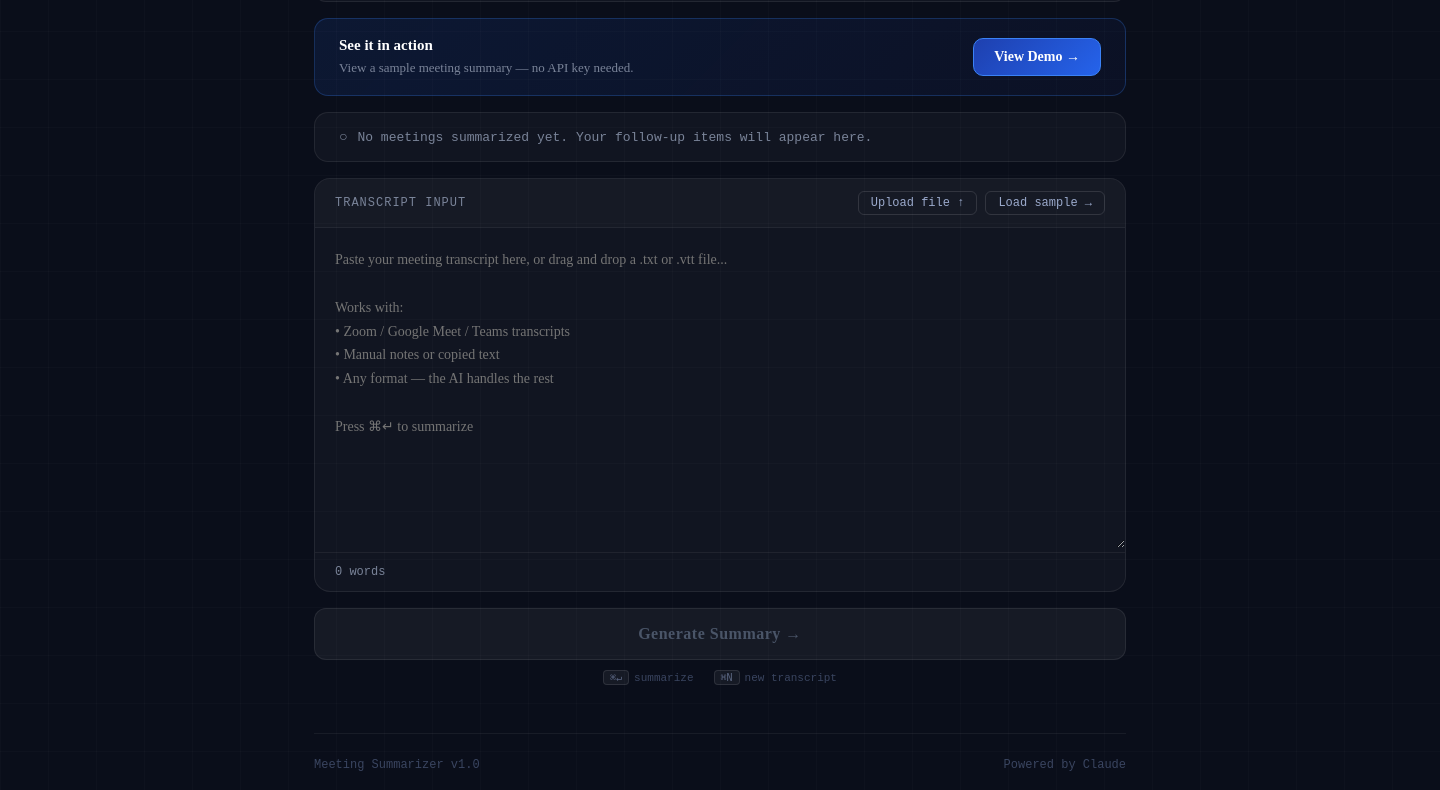
it: summarize: API error handling › shows "temporarily overloaded" error on 529
This screenshot has width=1440, height=790.
(page scrolled)
Replace the text in the text box with placeholder "Paste your meeting transcript" with "Some transcript content" at (720, 388), box [315, 228, 1125, 548]
(page scrolled)
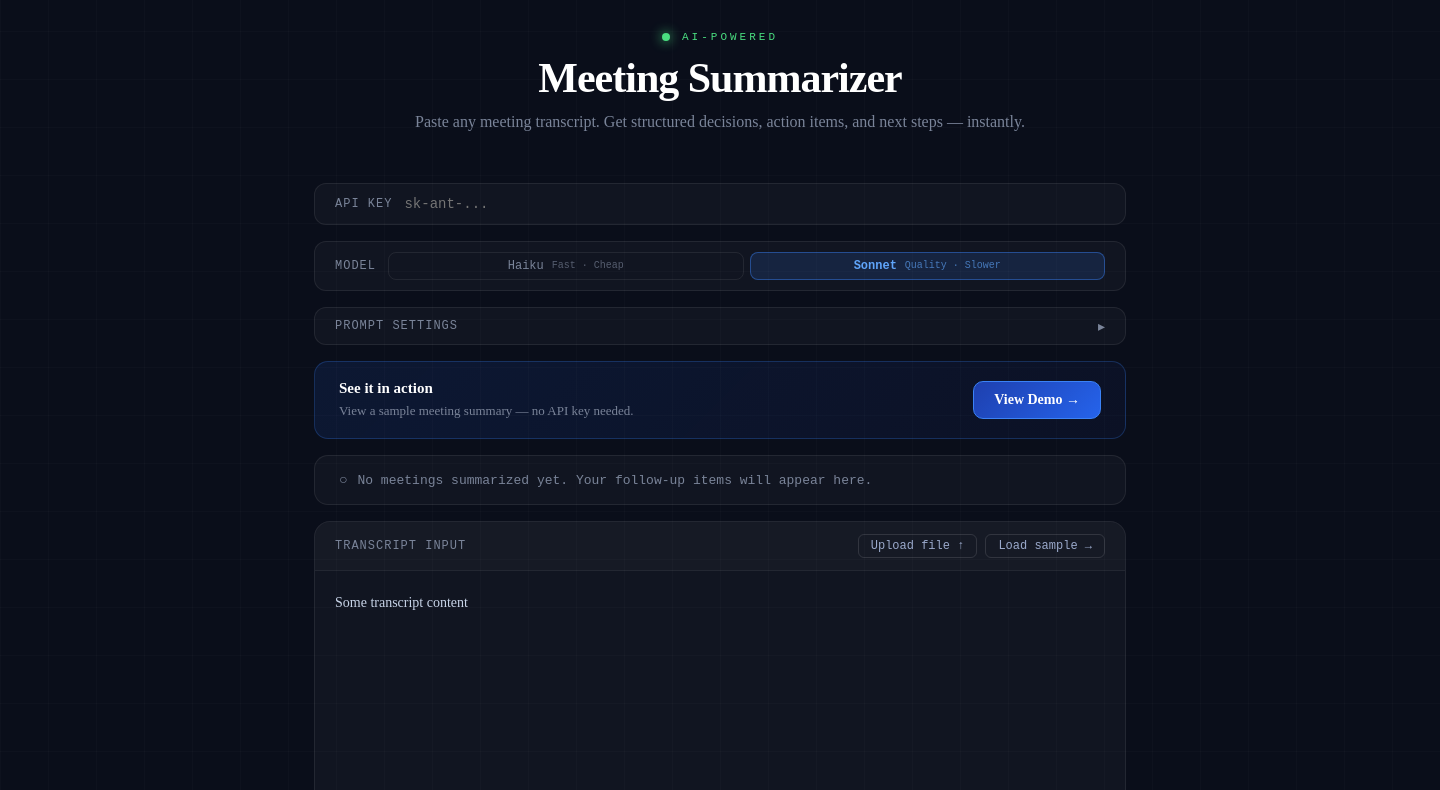
Type "sk-ant-test" into the password field with placeholder "sk-ant-..." at (755, 204), box [404, 196, 1105, 212]
(page scrolled)
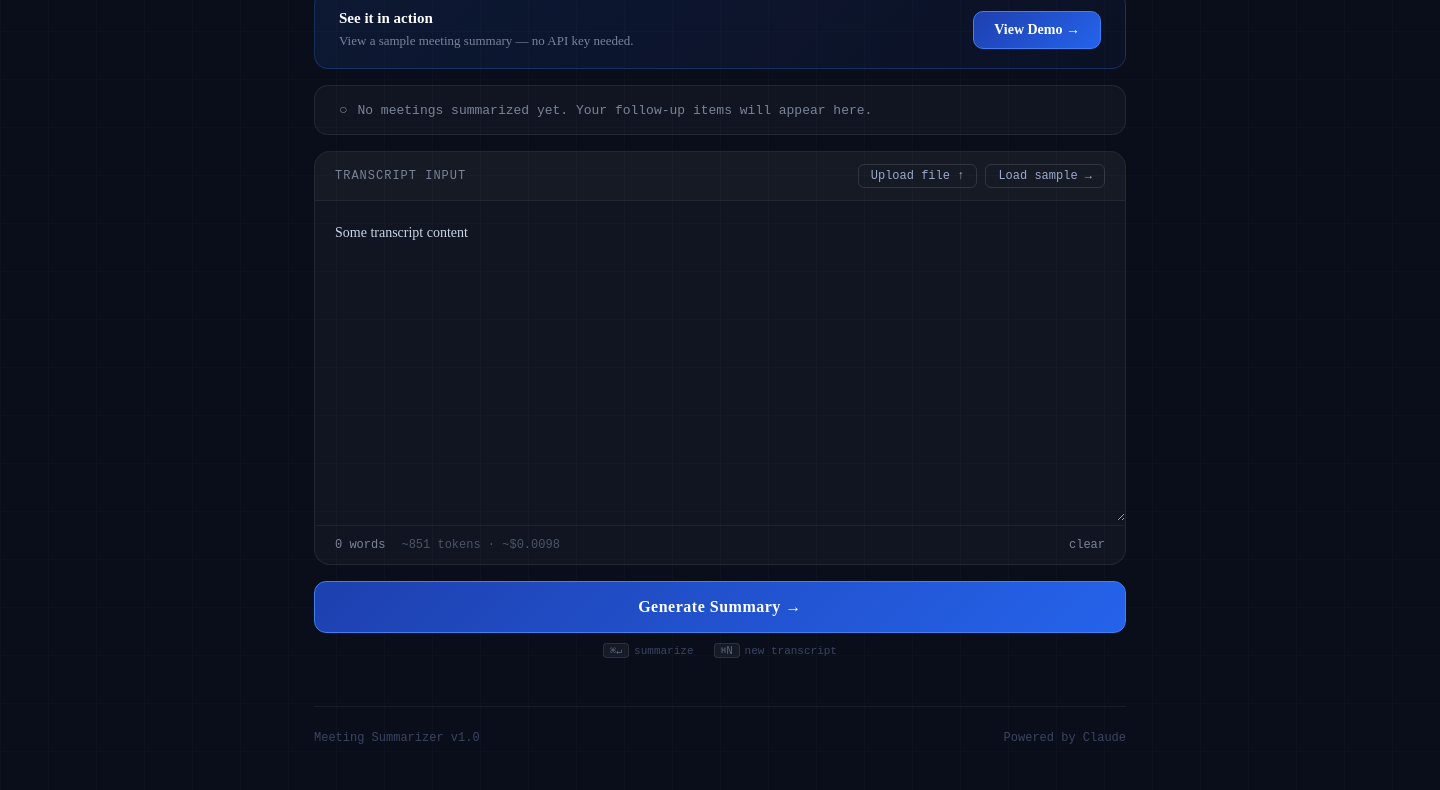
Click the button "Generate Summary →" at (720, 607), box [314, 581, 1126, 633]
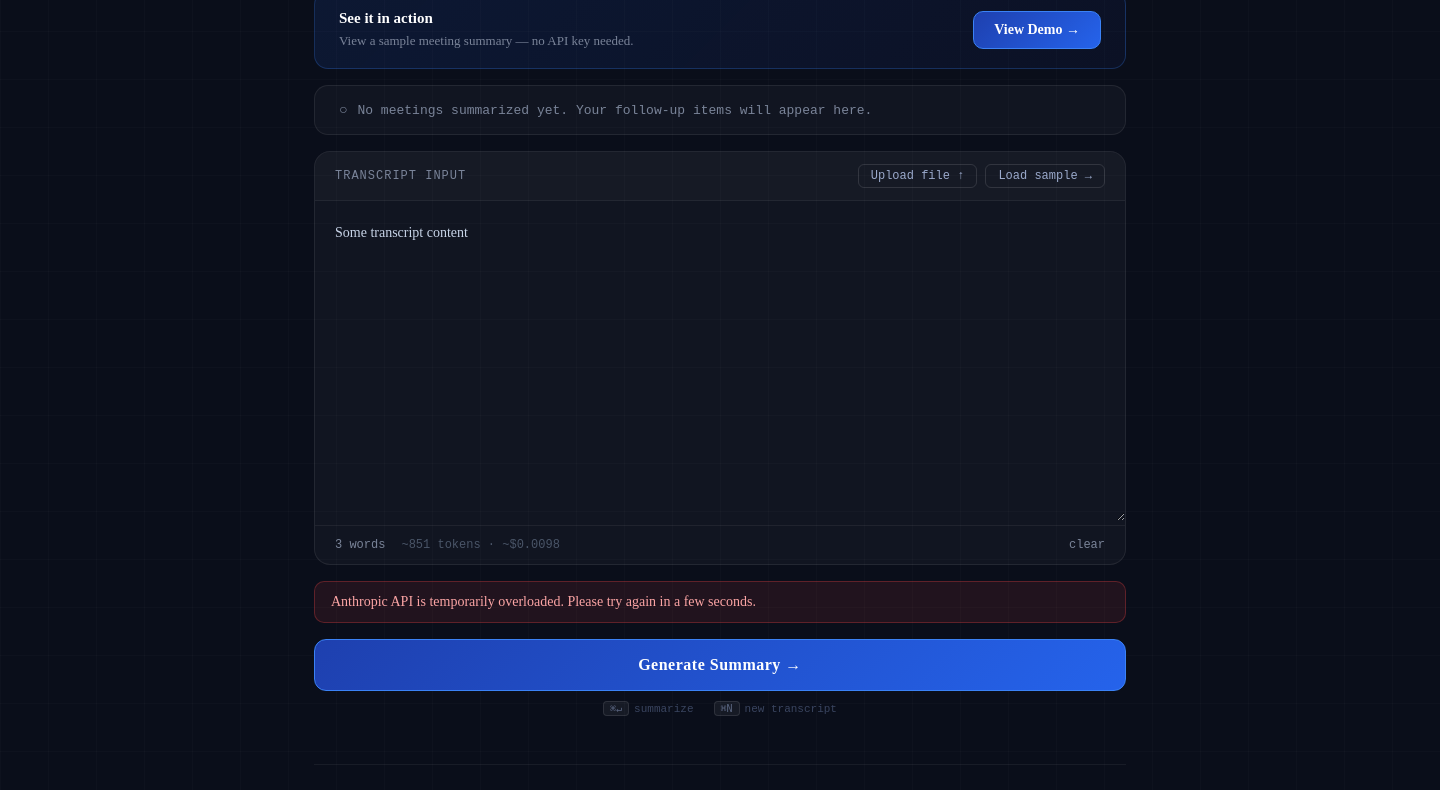
Expected: the text "temporarily overloaded" is shown, [331, 594, 756, 609]
